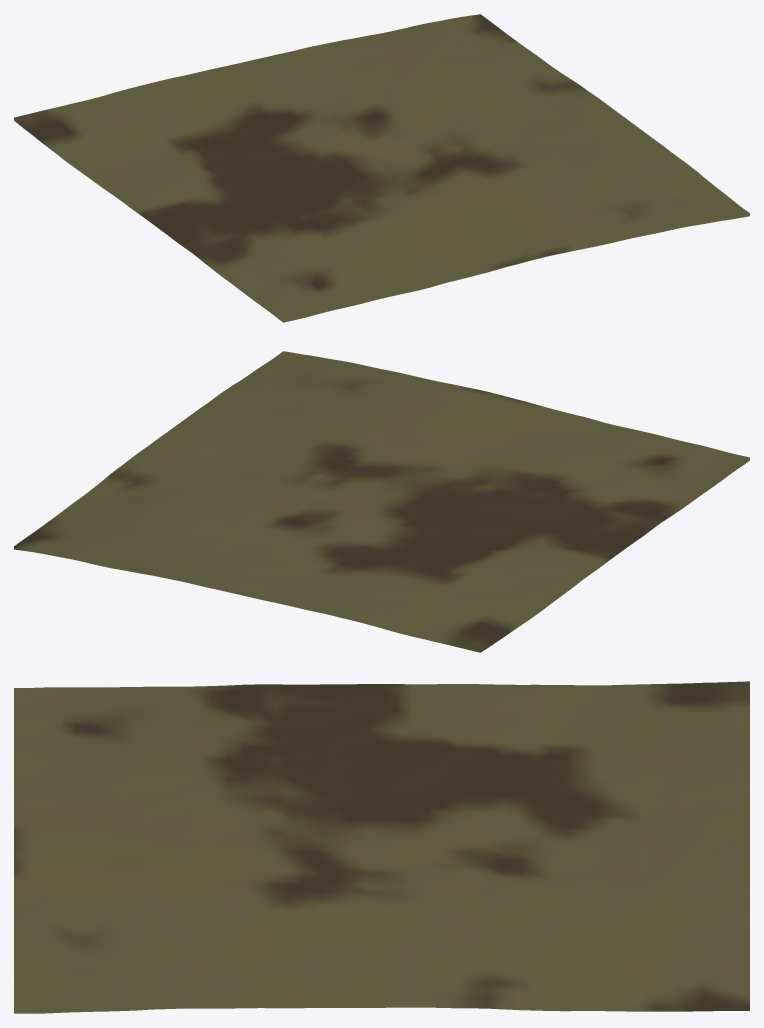
The model's file is land_m_05_11.glb.
The picture shows the model from 3 angles, top to bottom: view 1: azimuth 30°, elevation 25°; view 2: azimuth 150°, elevation 25°; view 3: azimuth 270°, elevation 25°; orthographic projection. The views are drawn at different scales.
Visible parts, largest first — view 1: land_m_05_11; view 2: land_m_05_11; view 3: land_m_05_11.
Boxes of the visible parts, x1,y1,x2,y2 form: land_m_05_11: (14, 14, 749, 322); land_m_05_11: (14, 351, 749, 652); land_m_05_11: (14, 681, 749, 1013).
Size of the model in its own units: 960 by 32.57 by 960.
